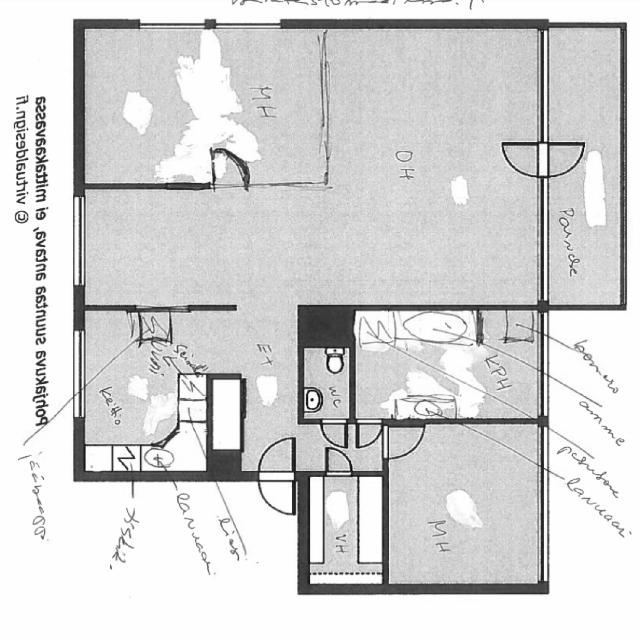door: (252, 432, 296, 520), (186, 144, 259, 193), (380, 420, 425, 462), (319, 448, 358, 478), (348, 418, 382, 450), (315, 419, 350, 448)
window: (525, 26, 559, 138), (62, 194, 97, 298), (532, 418, 553, 586), (527, 178, 551, 306), (530, 312, 556, 418), (127, 17, 293, 33), (65, 326, 92, 419)
zone: (315, 16, 537, 308), (80, 23, 334, 187), (381, 422, 544, 590), (80, 301, 228, 475), (342, 312, 542, 419), (298, 469, 384, 590), (293, 335, 354, 419)
